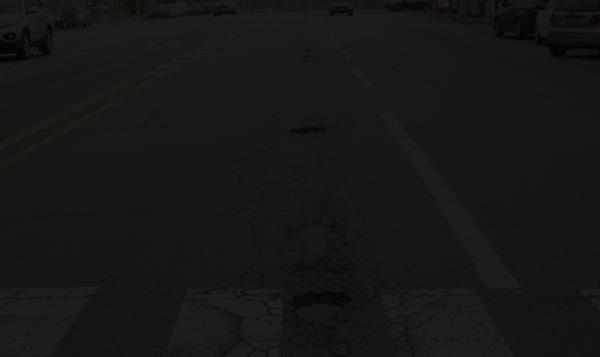pothole: (276, 278, 358, 333), (279, 111, 329, 153)
